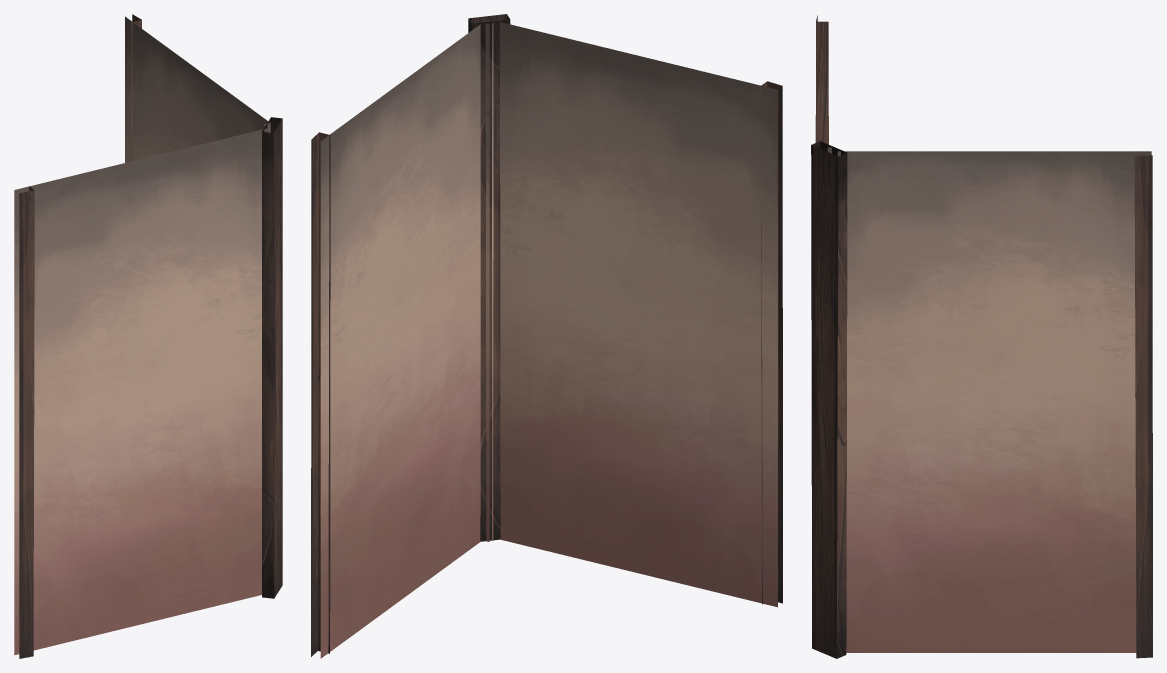
Rendered from Wall_Mid_Outer_Corner_LOD1.fbx.
3 views of the same model, side by side, from view 1: azimuth 30°, elevation 25°; view 2: azimuth 150°, elevation 25°; view 3: azimuth 270°, elevation 25° (orthographic). The views are drawn at different scales.
Visible parts, largest first — view 1: Outer_Corner_Wall_Mid_LOD1; view 2: Outer_Corner_Wall_Mid_LOD1; view 3: Outer_Corner_Wall_Mid_LOD1.
Boxes of the visible parts, x1,y1,x2,y2 form: Outer_Corner_Wall_Mid_LOD1: (14,14,282,658); Outer_Corner_Wall_Mid_LOD1: (311,14,782,658); Outer_Corner_Wall_Mid_LOD1: (811,15,1152,658).
Bounding box in the file's own units: 0.0258 × 0.0421 × 0.0259.
